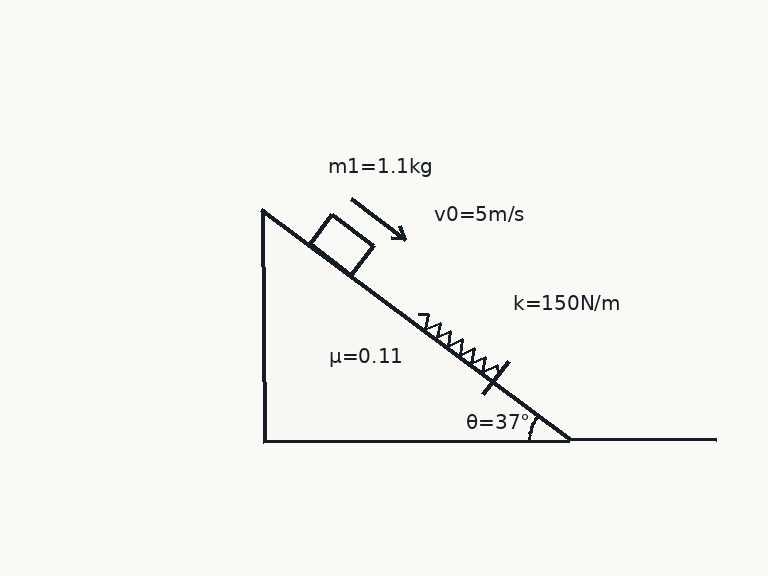block: (308, 213, 375, 277)
ramp: (260, 207, 571, 442)
spring: (416, 312, 500, 377)
